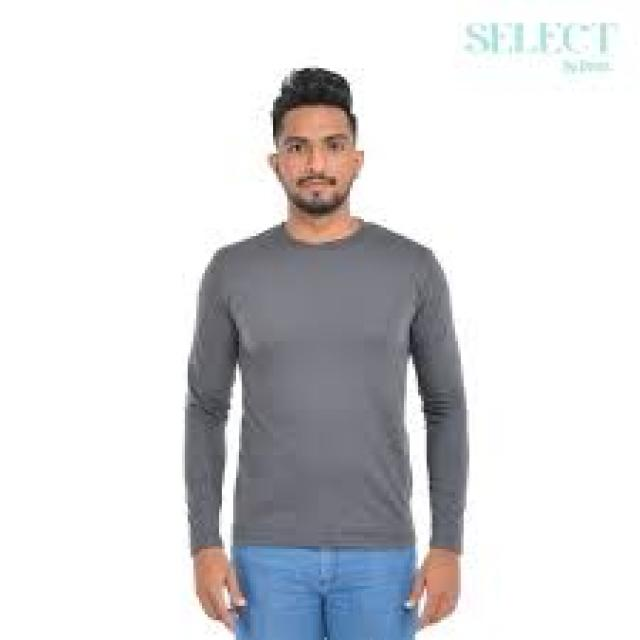plain: (182, 216, 469, 554)
